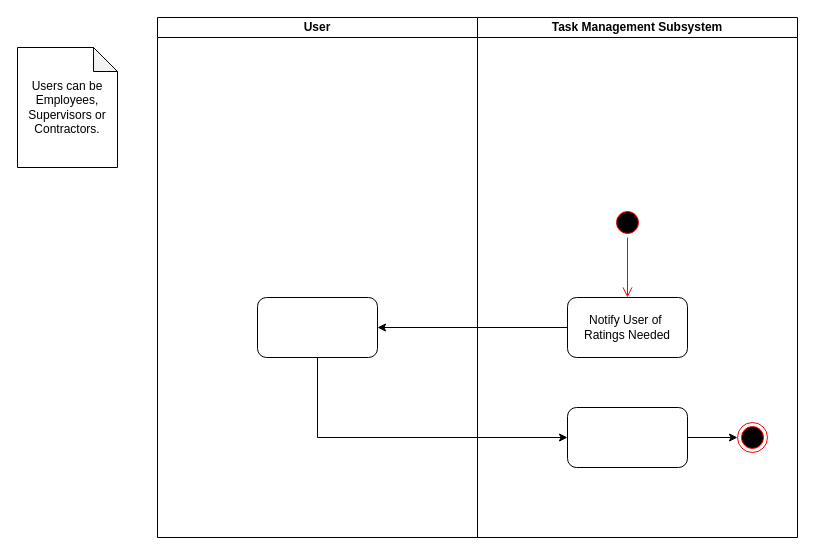
The diagram is 815 pixels wide and 555 high, and some of its shapes have lost their labels. Each missing label, with the box of its shape:
Input Fellow Users Ratings: (256, 296, 378, 358)
Update User Rating: (566, 406, 688, 468)
